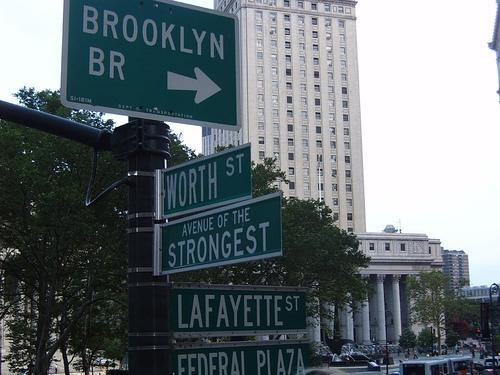bus: (397, 352, 472, 374)
